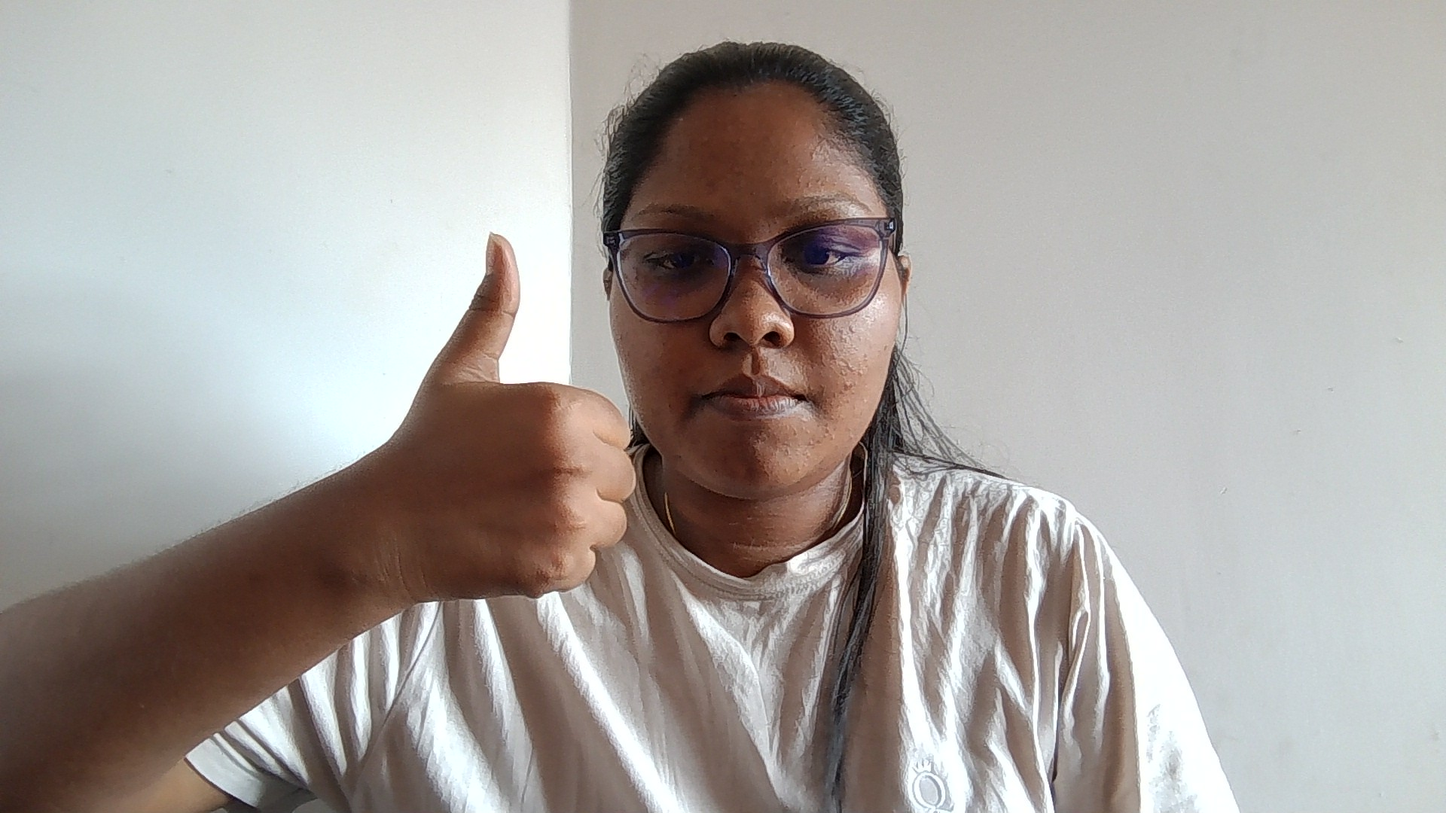Thumbs Up: (384, 158, 725, 630)
